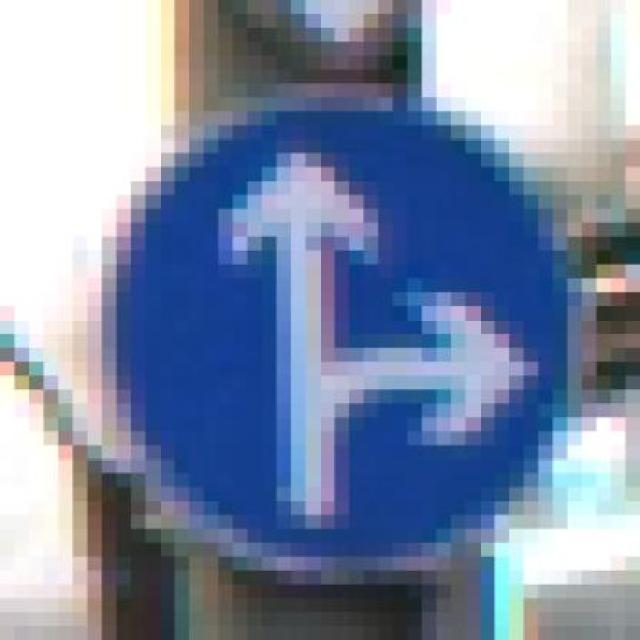Go Straight or Turn Right: (72, 83, 611, 585)
